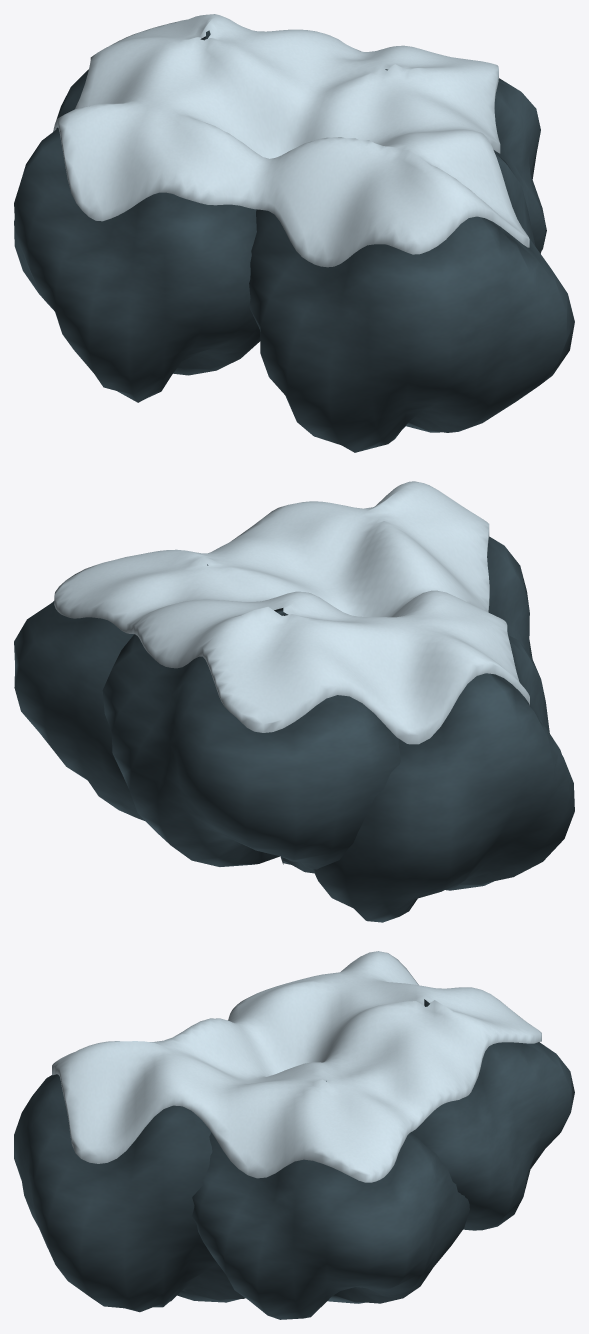
File: stone.glb
3 renders of one model, top to bottom at view 1: azimuth 30°, elevation 25°; view 2: azimuth 150°, elevation 25°; view 3: azimuth 270°, elevation 25°, orthographic. The views are drawn at different scales.
Parts seen in each view (by area): view 1: stone; view 2: stone; view 3: stone.
Part boxes in pixels (x1,y1,x2,y2): stone: (14, 14, 574, 452); stone: (14, 481, 574, 922); stone: (14, 951, 574, 1319).
Size of the model in its own units: 1.54 by 0.8892 by 1.61.
2 materials, 2 textured.
